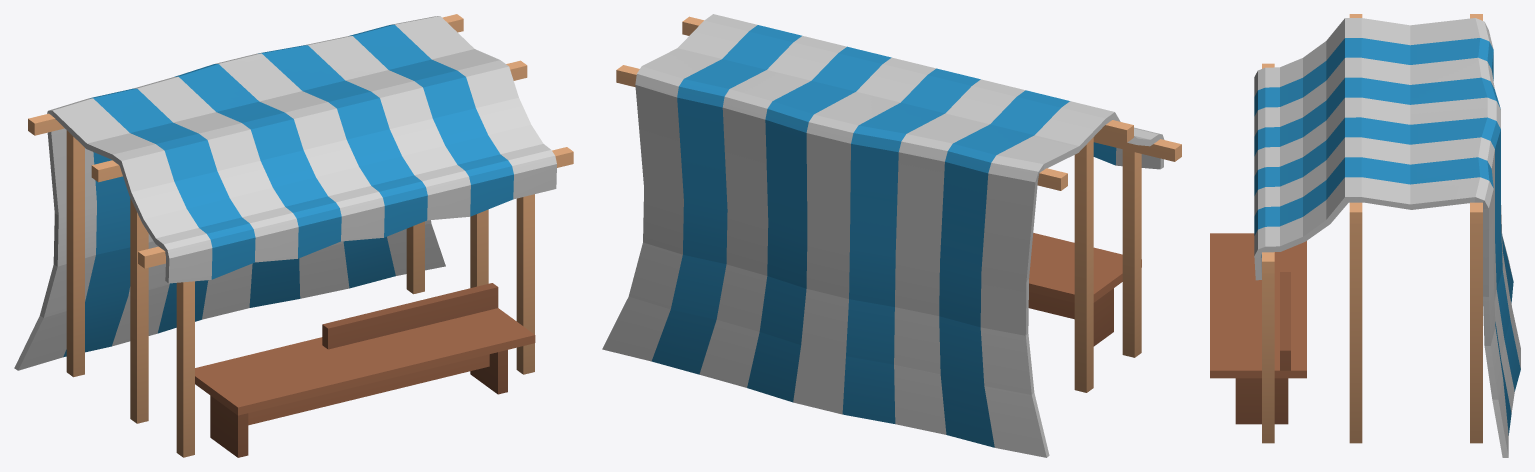
The model's file is market-stall.glb.
3 views of the same model, side by side, from view 1: azimuth 30°, elevation 25°; view 2: azimuth 150°, elevation 25°; view 3: azimuth 270°, elevation 25° (orthographic). The views are drawn at different scales.
Visible parts, largest first — view 1: food_tent_2; view 2: food_tent_2; view 3: food_tent_2.
Boxes of the visible parts, <box> form: food_tent_2: <box>14,14,573,457</box>; food_tent_2: <box>602,14,1181,457</box>; food_tent_2: <box>1210,14,1520,457</box>.
Size of the model in its own units: 4.67 by 2.79 by 3.09.
Materials: 1 (1 with a texture image).
